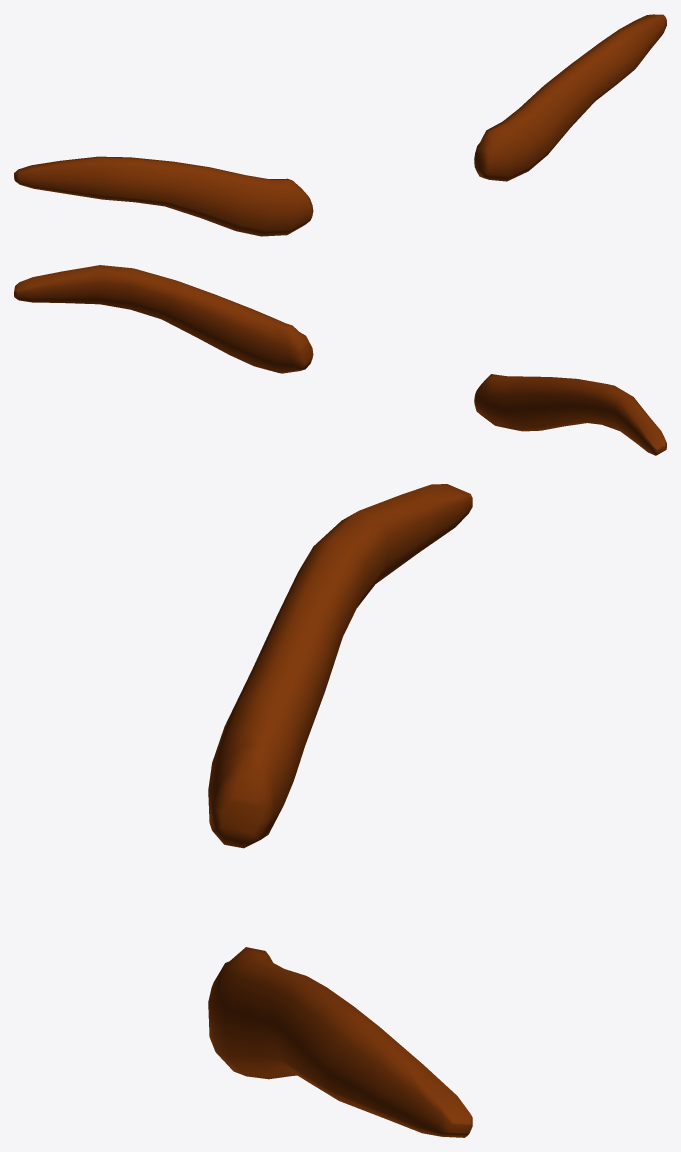
The model's file is Eyebrows_17_02.fbx.
3 views of the same model, one above another, from view 1: azimuth 30°, elevation 25°; view 2: azimuth 150°, elevation 25°; view 3: azimuth 270°, elevation 25° (orthographic). The views are drawn at different scales.
Visible parts, largest first — view 1: Eyebrows_17_02; view 2: Eyebrows_17_02; view 3: Eyebrows_17_02.
Part boxes in pixels (x1=…): Eyebrows_17_02: x1=14, y1=14, x2=666, y2=236; Eyebrows_17_02: x1=14, y1=265, x2=666, y2=455; Eyebrows_17_02: x1=208, y1=484, x2=472, y2=1137.
Bounding box in the file's own units: 18.79 × 2.52 × 3.3.
